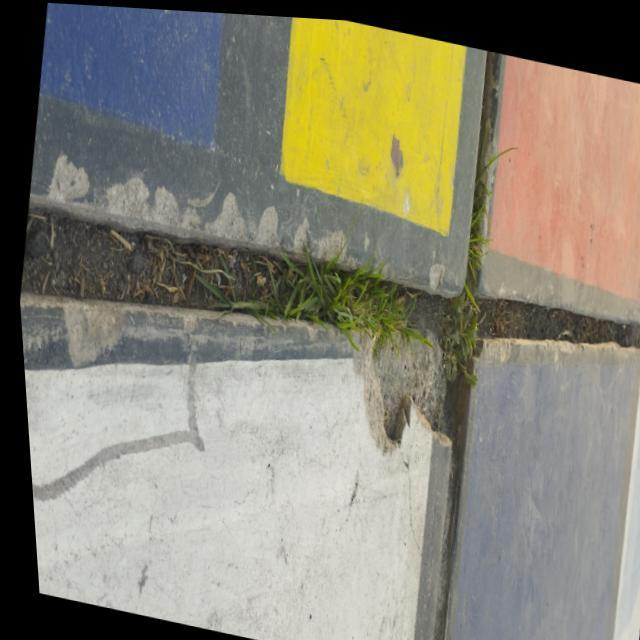hole: (322, 322, 460, 468)
